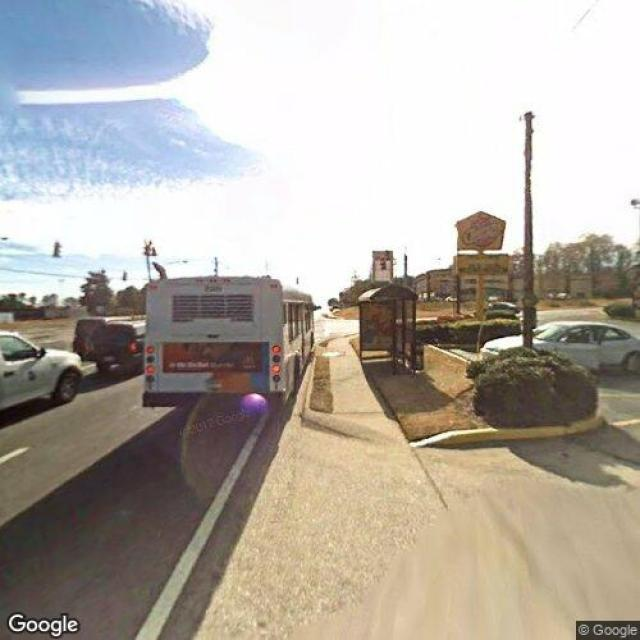seating: (390, 348, 410, 373)
shelter: (358, 284, 420, 380)
trash_can: (409, 342, 424, 370)
